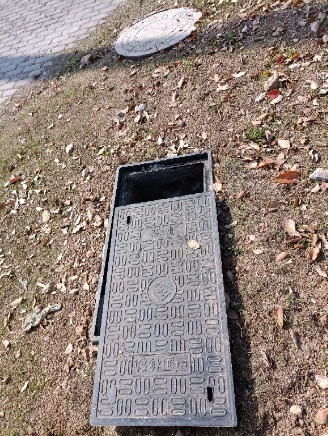well: (86, 153, 253, 436), (111, 3, 221, 57)
